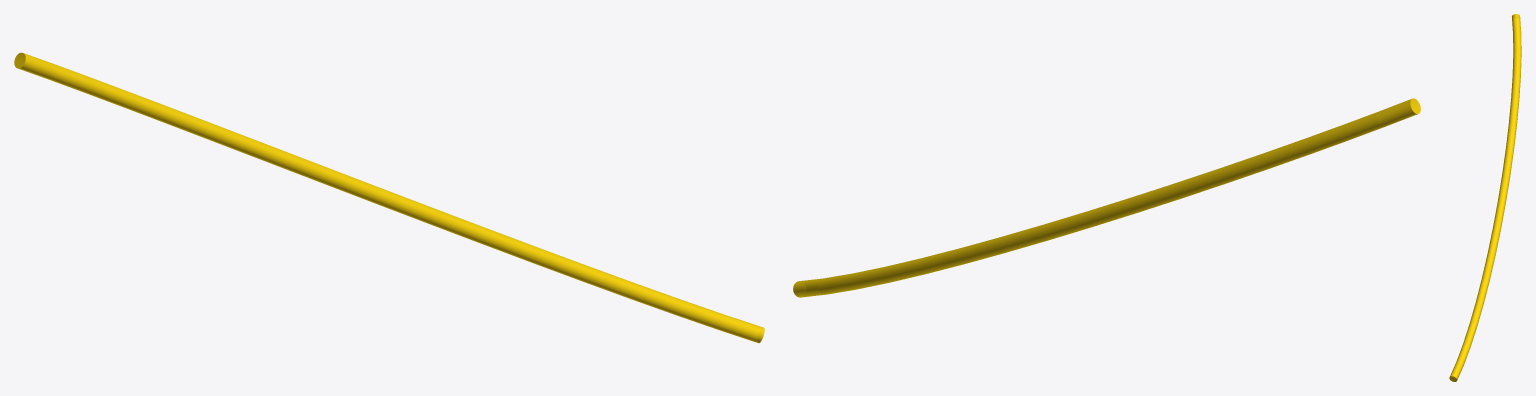
File: Event_420107950_track_13.fbx
The picture shows the model from 3 angles, left to right: view 1: azimuth 30°, elevation 25°; view 2: azimuth 150°, elevation 25°; view 3: azimuth 270°, elevation 25°; orthographic projection. The views are drawn at different scales.
Parts seen in each view (by area): view 1: Model; view 2: Model; view 3: Model.
Boxes of the visible parts, <box> form: Model: <box>14,52,764,343</box>; Model: <box>793,98,1420,297</box>; Model: <box>1449,14,1521,381</box>.
Size of the model in its own units: 1.91 by 1.08 by 0.3479.
